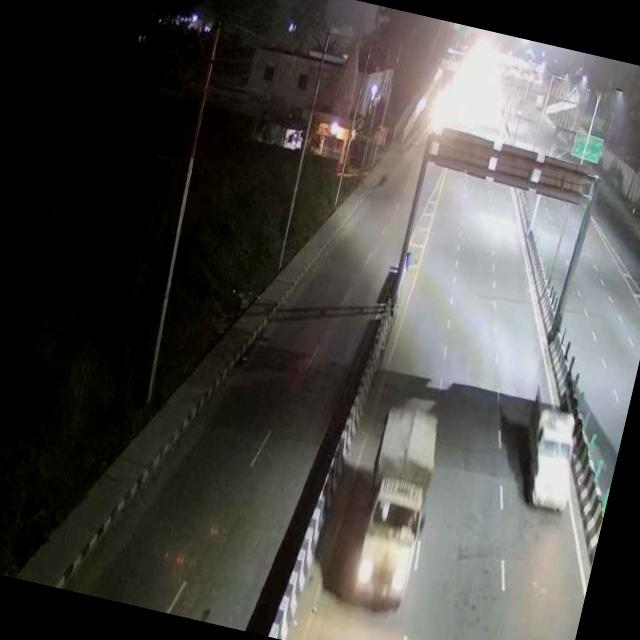car: (504, 379, 600, 516)
